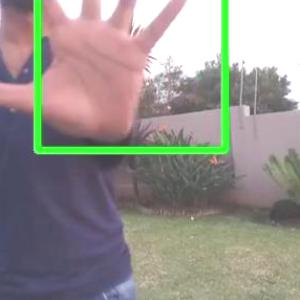follow_hand: (1, 0, 194, 150)
